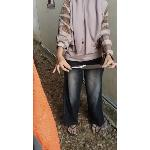Pisau: (66, 64, 108, 72)
